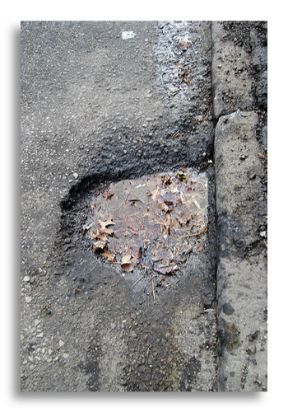pothole: (59, 159, 218, 295)
